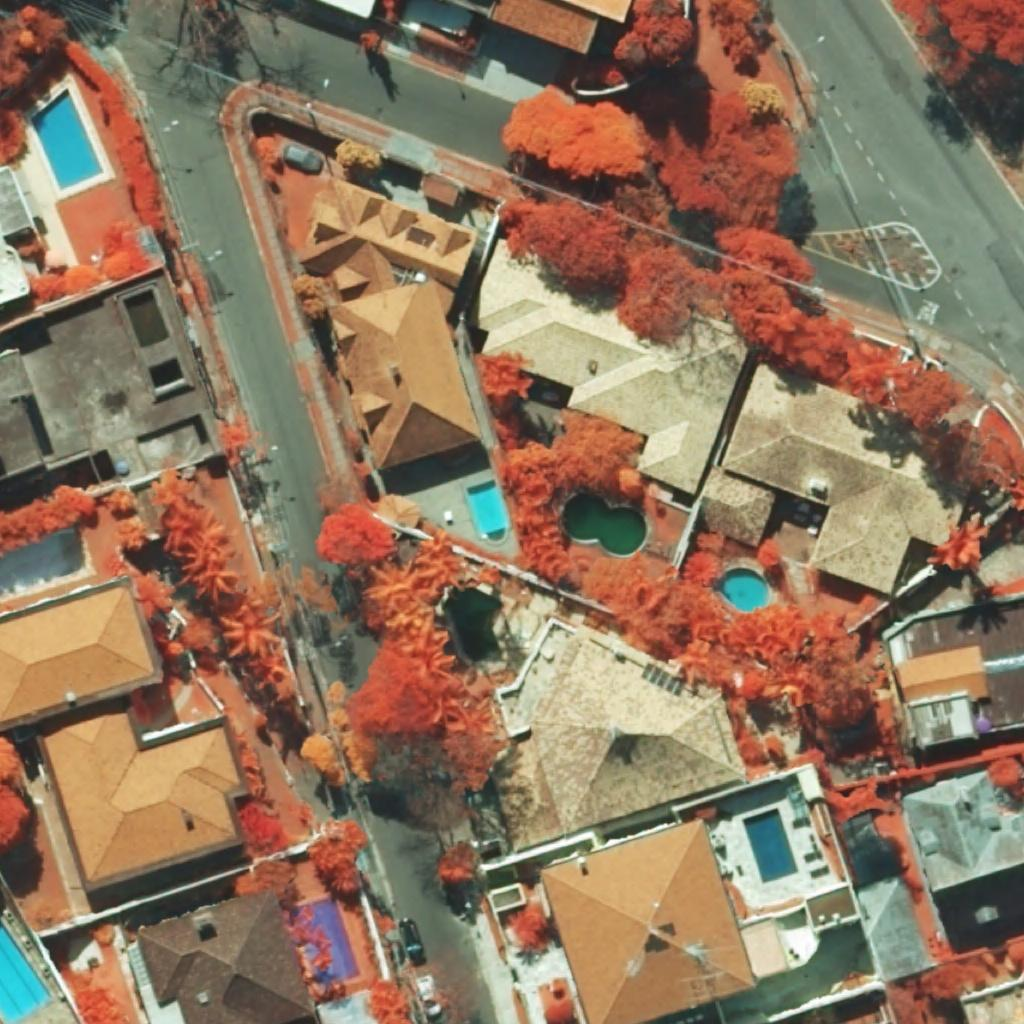pool: (31, 87, 104, 190), (564, 493, 647, 556), (312, 897, 361, 985), (446, 588, 503, 662), (742, 808, 798, 883), (465, 479, 509, 542), (720, 568, 769, 612)
